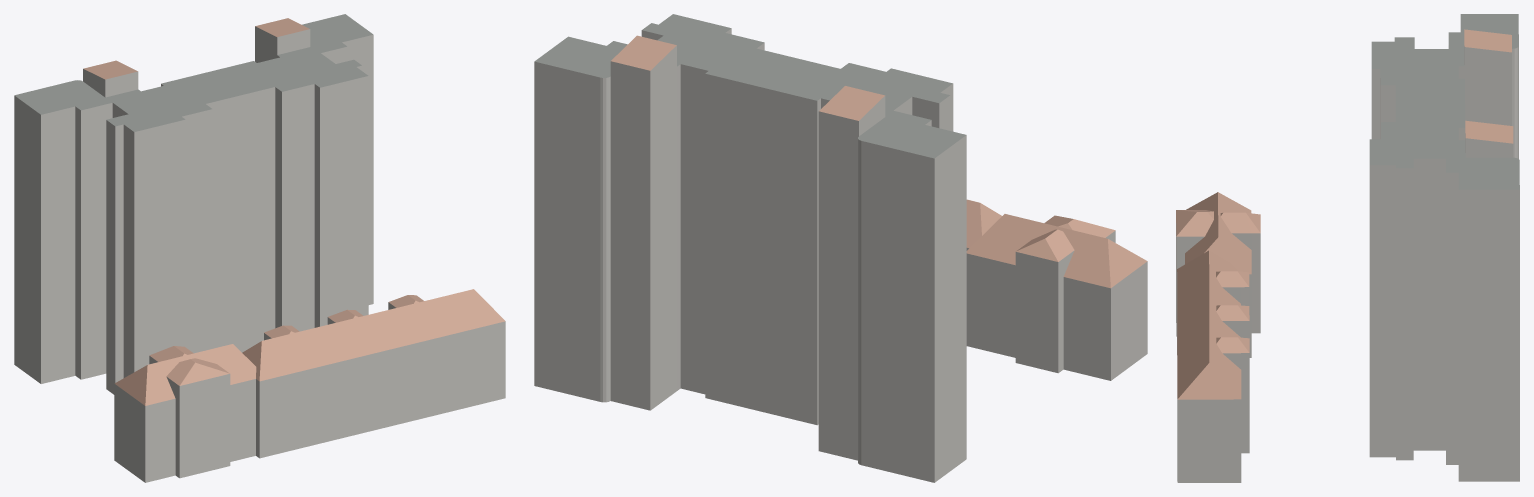
Rendered from gridID_26.dae.
The picture shows the model from 3 angles, left to right: view 1: azimuth 30°, elevation 25°; view 2: azimuth 150°, elevation 25°; view 3: azimuth 270°, elevation 25°; orthographic projection. The views are drawn at different scales.
Parts seen in each view (by area): view 1: model_gridID_26_w114518354, model_gridID_26_w114518356_001; view 2: model_gridID_26_w114518354, model_gridID_26_w114518356_001; view 3: model_gridID_26_w114518354, model_gridID_26_w114518356_001.
Boxes of the visible parts, x1,y1,x2,y2 form: model_gridID_26_w114518354: (14,14,373,394); model_gridID_26_w114518356_001: (114,289,505,482); model_gridID_26_w114518354: (534,14,966,482); model_gridID_26_w114518356_001: (966,199,1147,380); model_gridID_26_w114518354: (1369,14,1519,481); model_gridID_26_w114518356_001: (1176,192,1260,482).
Size of the model in its own units: 72.9 by 55.99 by 56.
